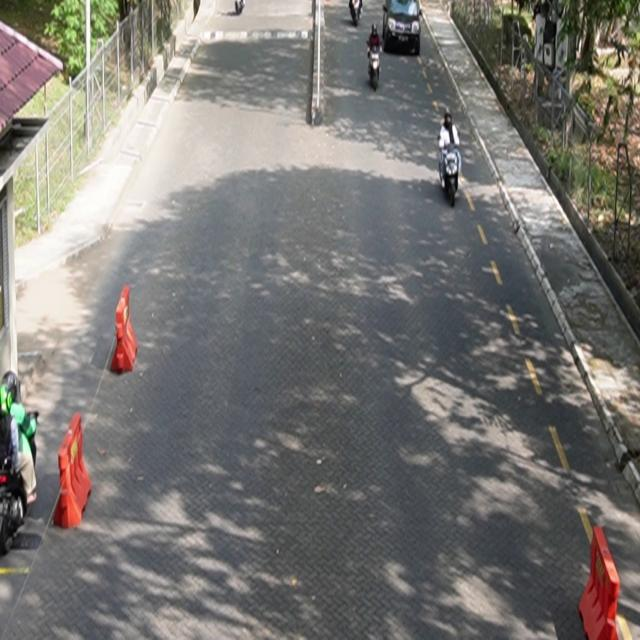car: (383, 1, 423, 56)
